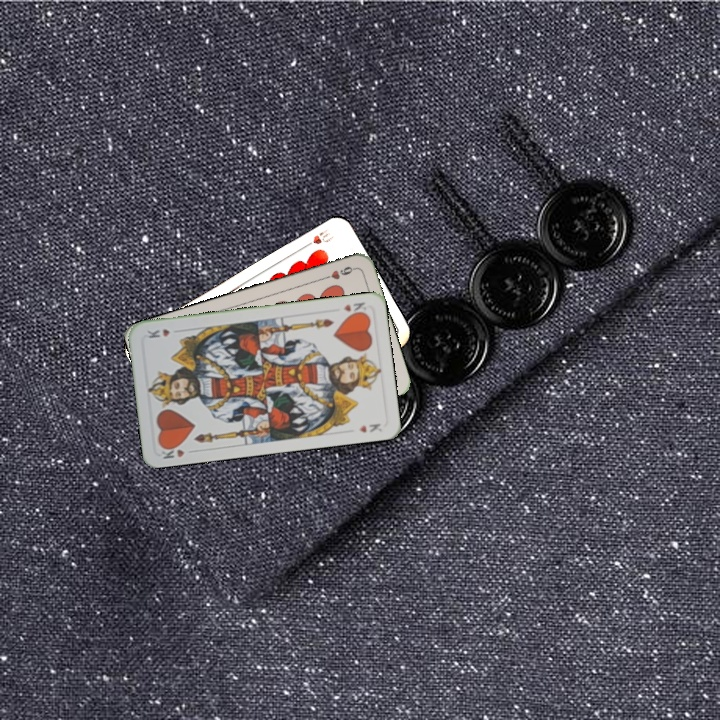H10: (299, 224, 336, 251)
H9: (319, 262, 358, 282)
HK: (157, 440, 198, 462), (339, 298, 370, 318)
